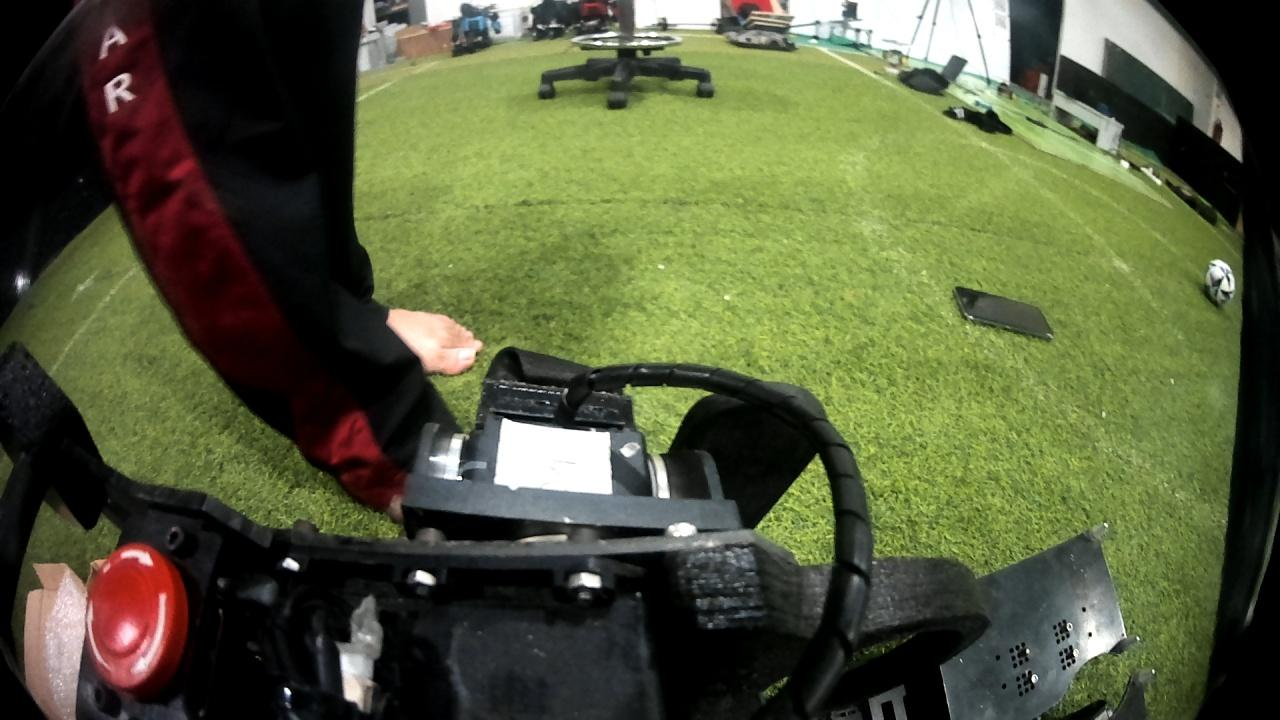ball: (1199, 257, 1242, 308)
